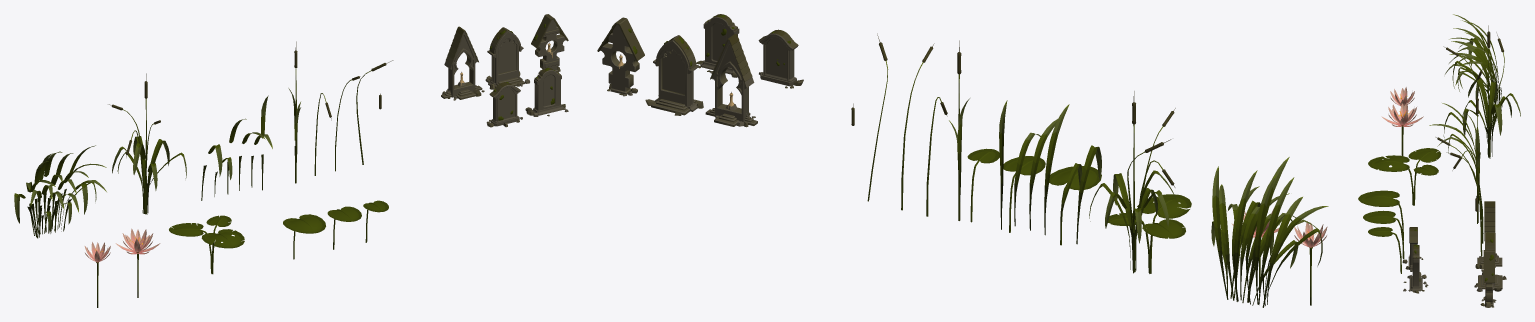
Rendered from Swamp_Props_01.fbx.
The picture shows the model from 3 angles, left to right: view 1: azimuth 30°, elevation 25°; view 2: azimuth 150°, elevation 25°; view 3: azimuth 270°, elevation 25°; orthographic projection. The views are drawn at different scales.
Visible parts, largest first — view 1: swamp_grass_17, swamp_grass_16, tombstone_00, tombstone_04, swamp_grass_01, tombstone_03, tombstone_02, tombstone_01, swamp_grass_14, swamp_grass_02, swamp_grass_13, swamp_grass_15 (+1 smaller); view 2: swamp_grass_17, tombstone_00, swamp_grass_16, tombstone_04, tombstone_03, swamp_grass_01, tombstone_01, tombstone_02, swamp_grass_14, swamp_grass_13, swamp_grass_06, swamp_grass_15 (+4 smaller); view 3: swamp_grass_17, swamp_grass_16, swamp_grass_01, tombstone_03, swamp_grass_14, swamp_grass_02, tombstone_04, tombstone_02, tombstone_00, swamp_grass_15, swamp_grass_13, tombstone_01 (+6 smaller).
Boxes of the visible parts, bbox=[...] form: swamp_grass_17: bbox=[14, 145, 106, 238]; swamp_grass_16: bbox=[108, 73, 186, 214]; tombstone_00: bbox=[485, 27, 529, 89]; tombstone_04: bbox=[441, 26, 484, 100]; swamp_grass_01: bbox=[169, 215, 244, 274]; tombstone_03: bbox=[531, 14, 568, 73]; tombstone_02: bbox=[525, 67, 568, 116]; tombstone_01: bbox=[486, 82, 522, 127]; swamp_grass_14: bbox=[283, 214, 325, 259]; swamp_grass_02: bbox=[115, 228, 160, 297]; swamp_grass_13: bbox=[288, 41, 300, 183]; swamp_grass_15: bbox=[327, 206, 361, 249]; swamp_grass_17: bbox=[1211, 157, 1328, 307]; tombstone_00: bbox=[645, 35, 703, 115]; swamp_grass_16: bbox=[1089, 91, 1176, 273]; tombstone_04: bbox=[705, 34, 757, 127]; tombstone_03: bbox=[597, 17, 644, 96]; swamp_grass_01: bbox=[1108, 194, 1191, 273]; tombstone_01: bbox=[758, 29, 803, 88]; tombstone_02: bbox=[696, 14, 739, 77]; swamp_grass_14: bbox=[1049, 166, 1101, 245]; swamp_grass_13: bbox=[949, 40, 969, 220]; swamp_grass_06: bbox=[1044, 104, 1069, 235]; swamp_grass_15: bbox=[1003, 156, 1045, 232]; swamp_grass_17: bbox=[1445, 14, 1502, 121]; swamp_grass_16: bbox=[1443, 25, 1520, 158]; swamp_grass_01: bbox=[1368, 148, 1441, 205]; tombstone_03: bbox=[1480, 250, 1496, 307]; swamp_grass_14: bbox=[1358, 190, 1403, 240]; swamp_grass_02: bbox=[1381, 102, 1423, 155]; tombstone_04: bbox=[1475, 201, 1502, 271]; tombstone_02: bbox=[1403, 244, 1428, 293]; tombstone_00: bbox=[1474, 232, 1506, 291]; swamp_grass_15: bbox=[1363, 210, 1404, 259]; swamp_grass_13: bbox=[1470, 90, 1480, 223]; tombstone_01: bbox=[1402, 227, 1423, 271].
Size of the model in its own units: 1277 by 391 by 339.
